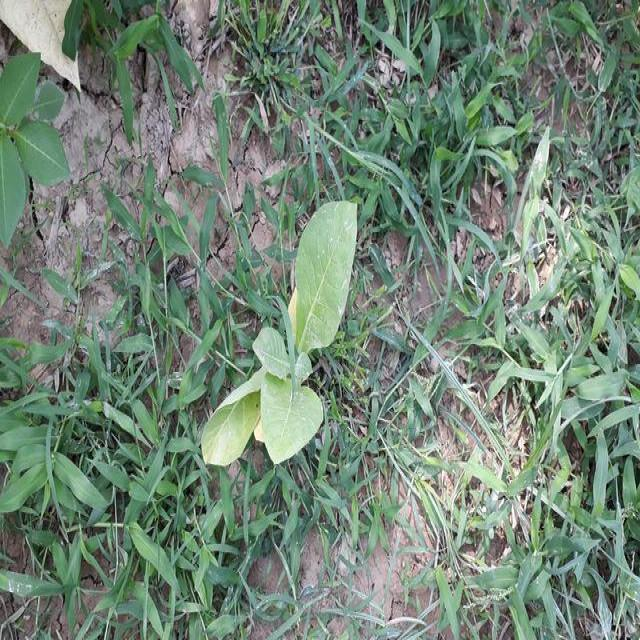crop: (189, 188, 368, 486)
